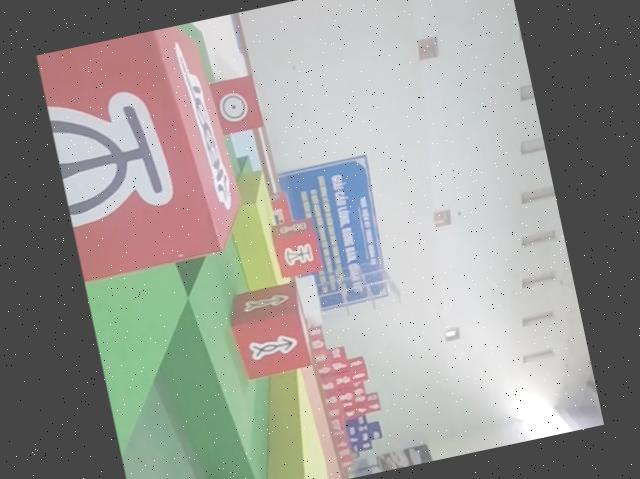R2 Fake: (35, 19, 256, 284)
R2 Real: (223, 280, 315, 380), (208, 71, 266, 136), (269, 215, 325, 277)
